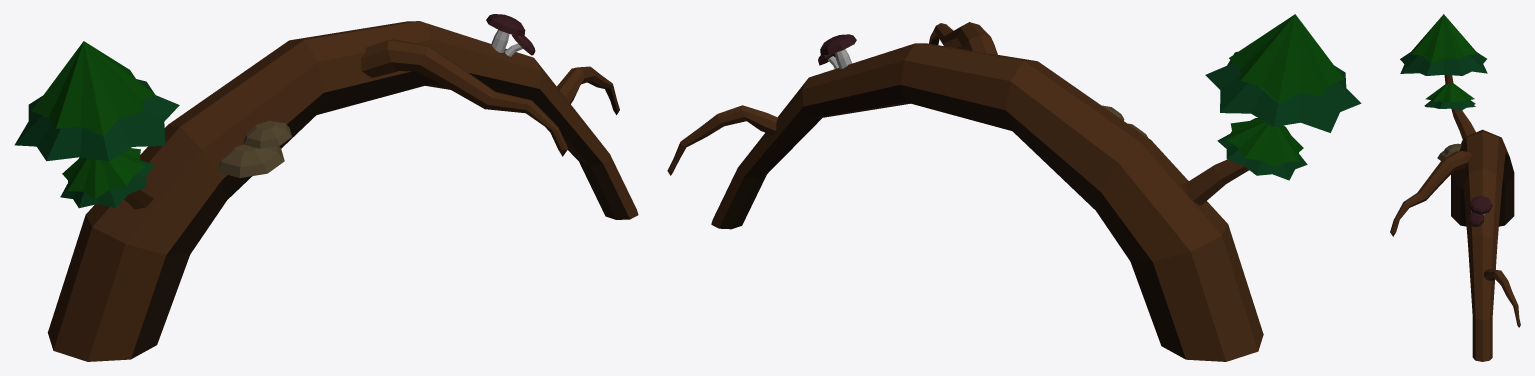
The model's file is Pine-Root-1.fbx.
3 renders of one model, left to right at view 1: azimuth 30°, elevation 25°; view 2: azimuth 150°, elevation 25°; view 3: azimuth 270°, elevation 25°, orthographic. The views are drawn at different scales.
Visible parts, largest first — view 1: Cylinder.026; view 2: Cylinder.026; view 3: Cylinder.026.
Boxes of the visible parts, left/top/right/bottom form: Cylinder.026: left=14, top=14, right=638, bottom=361; Cylinder.026: left=667, top=14, right=1361, bottom=361; Cylinder.026: left=1390, top=14, right=1520, bottom=361.
Size of the model in its own units: 918 by 450 by 284.
